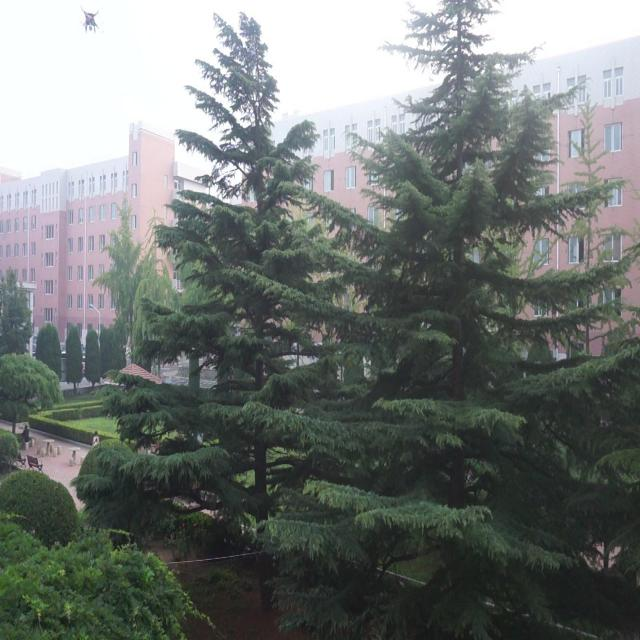UAV: (78, 0, 105, 32)
